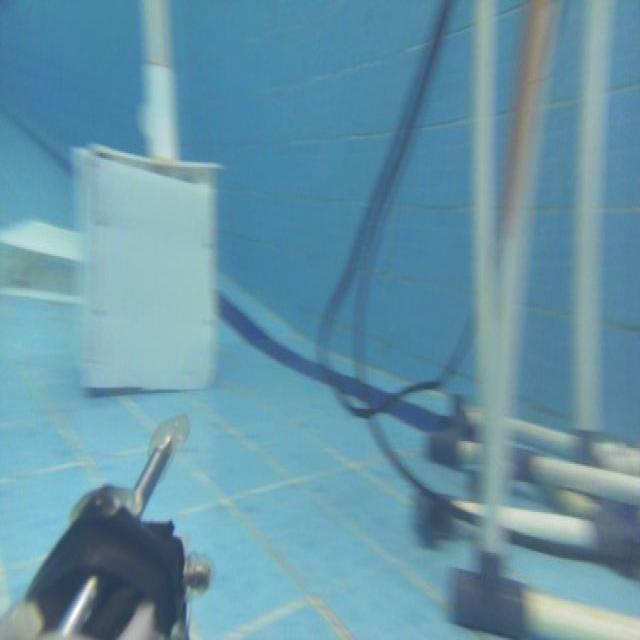Cube: (68, 137, 222, 396)
Cuboid: (2, 208, 87, 306)
